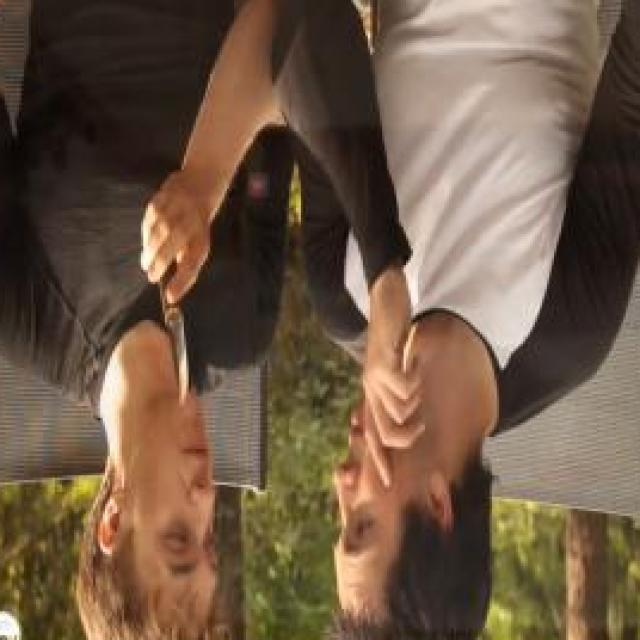knife: (138, 170, 212, 425)
